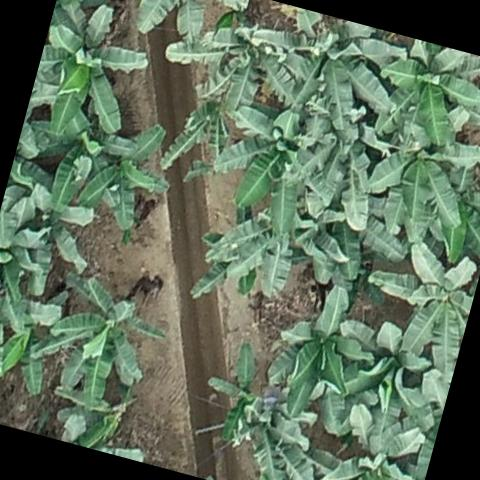Banana-plant: (17, 258, 179, 424), (235, 0, 414, 138), (256, 272, 392, 438), (197, 174, 357, 314), (202, 94, 348, 244), (150, 0, 318, 130), (310, 308, 452, 461), (23, 0, 162, 150), (0, 125, 115, 300), (347, 230, 480, 378), (355, 107, 480, 245), (64, 103, 185, 238), (362, 32, 480, 168), (0, 181, 76, 348), (192, 332, 286, 452), (154, 83, 240, 191), (311, 437, 428, 480)
